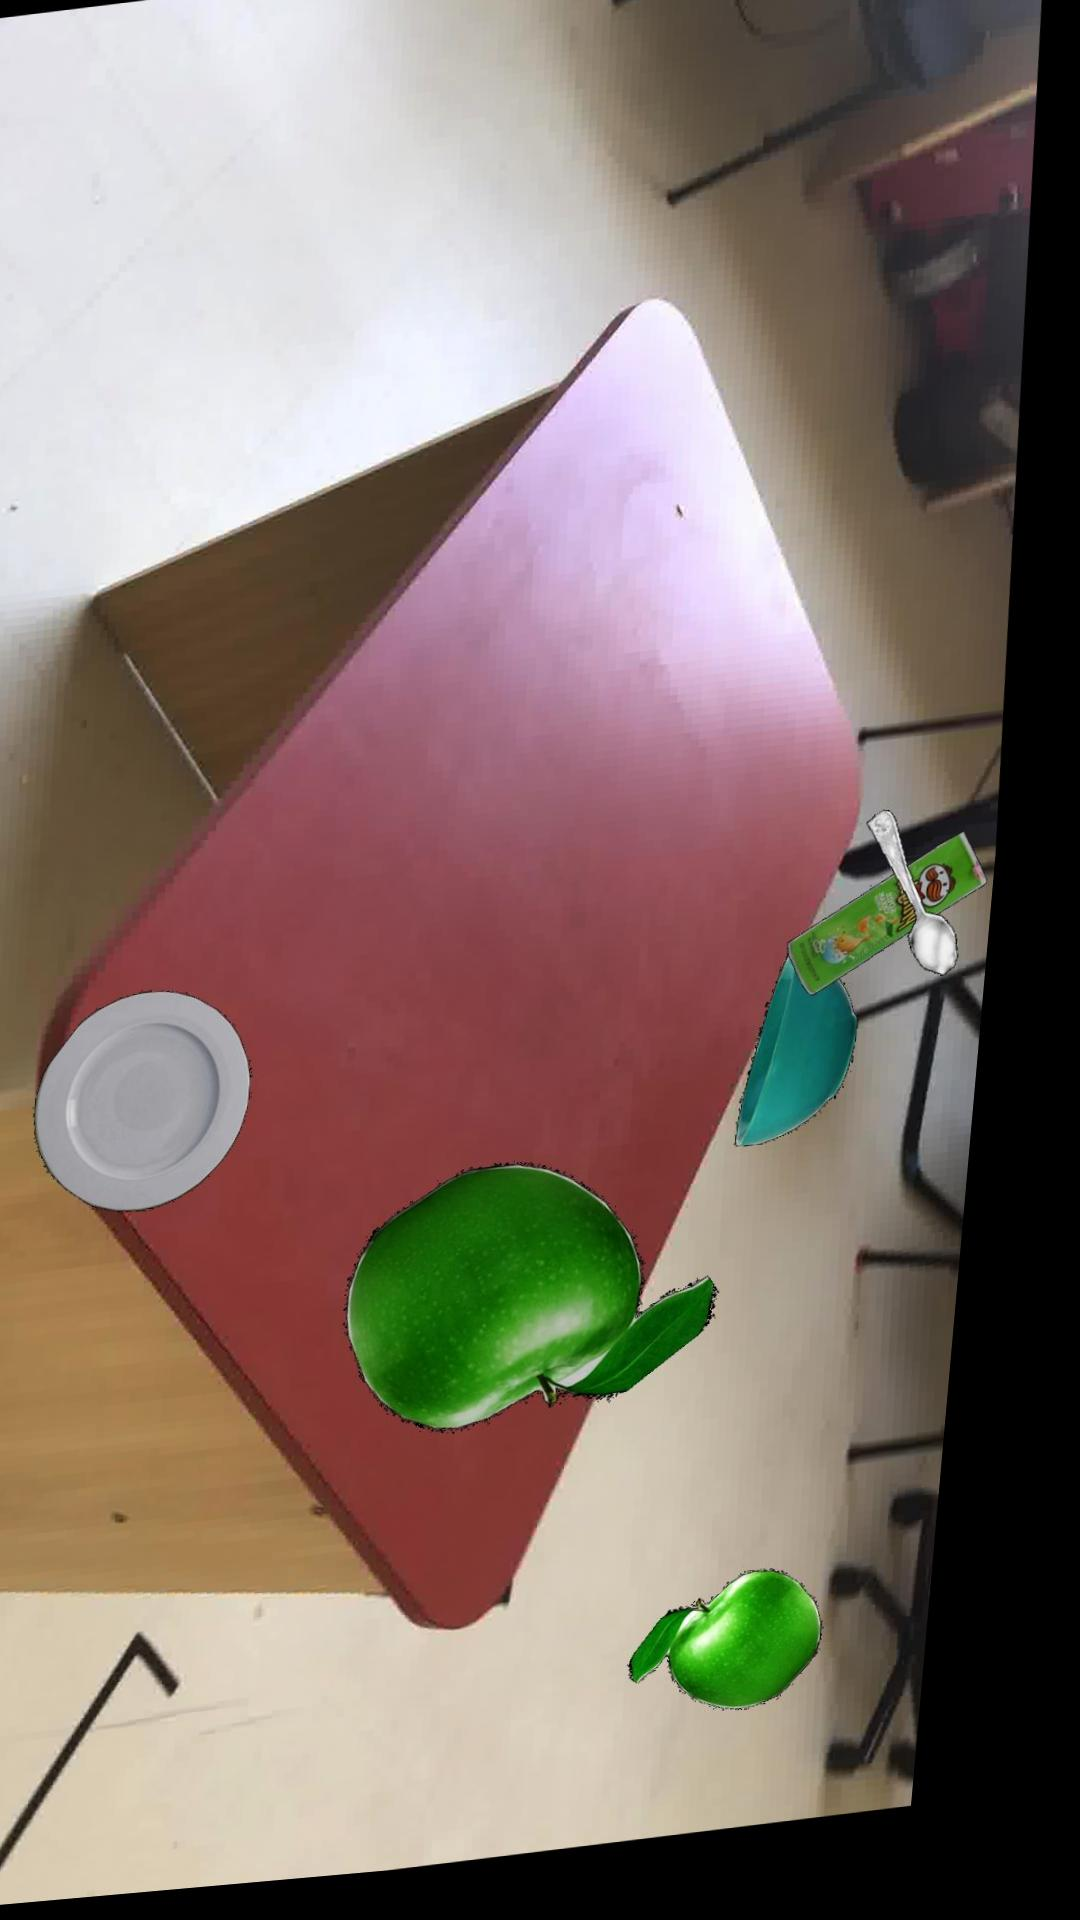bowl: (756, 975, 878, 1164)
green apple: (368, 1176, 741, 1445), (659, 1588, 853, 1727)
plate: (53, 996, 272, 1218)
pringles: (806, 853, 1004, 1014)
spoon: (882, 829, 976, 997)
